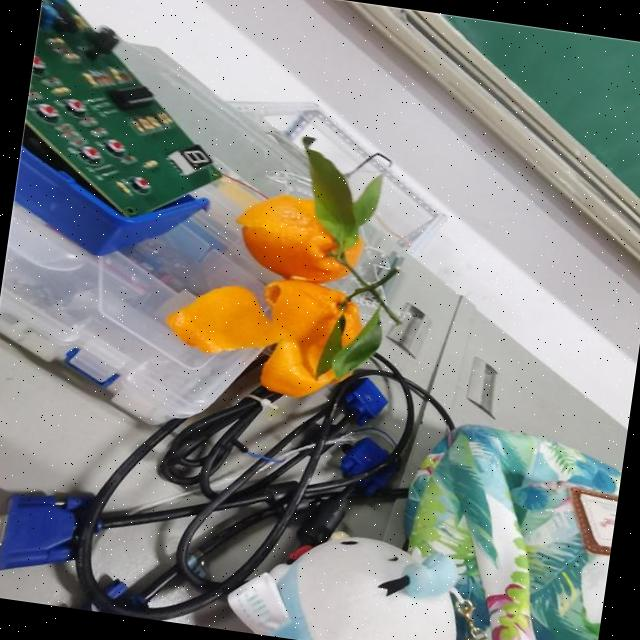orange-peel: (156, 178, 384, 406), (228, 186, 368, 288)
